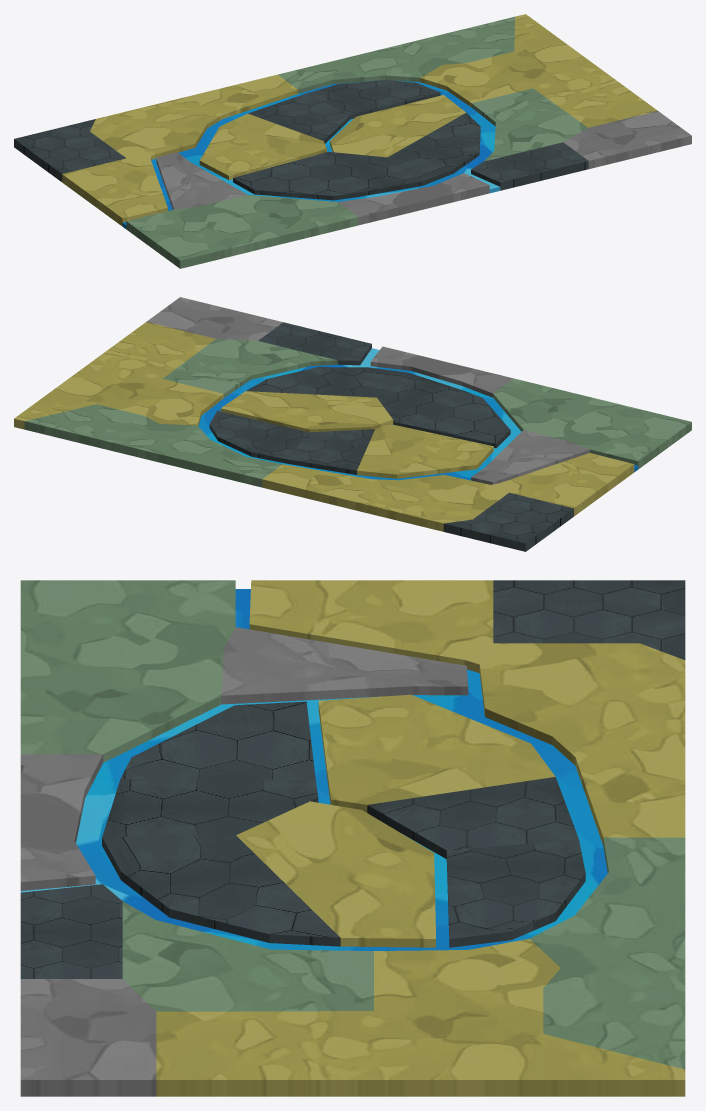
The model's file is Map.fbx.
3 renders of one model, top to bottom at view 1: azimuth 30°, elevation 25°; view 2: azimuth 150°, elevation 25°; view 3: azimuth 270°, elevation 25°, orthographic. The views are drawn at different scales.
Parts seen in each view (by area): view 1: Map 3; view 2: Map 3; view 3: Map 3.
Part boxes in pixels (left/top/right/bottom): Map 3: left=14, top=14, right=691, bottom=268; Map 3: left=14, top=297, right=691, bottom=551; Map 3: left=20, top=580, right=685, bottom=1096.
Bounding box in the file's own units: 192000 × 3000 × 108000.
5 materials, 5 textured.
